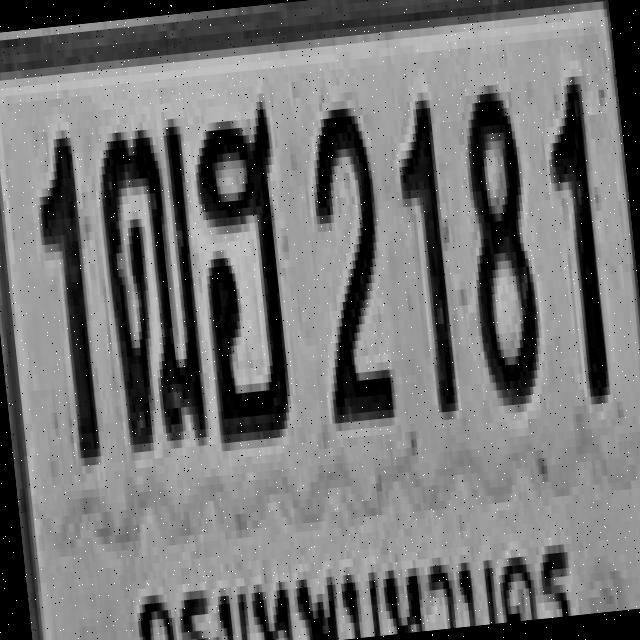1: (30, 130, 104, 468), (539, 68, 613, 406), (388, 91, 462, 422)
2: (300, 98, 398, 423)
27ThorPhuThao: (91, 118, 212, 453)
53HorNokHook: (184, 96, 302, 448)
8: (453, 83, 545, 407)
